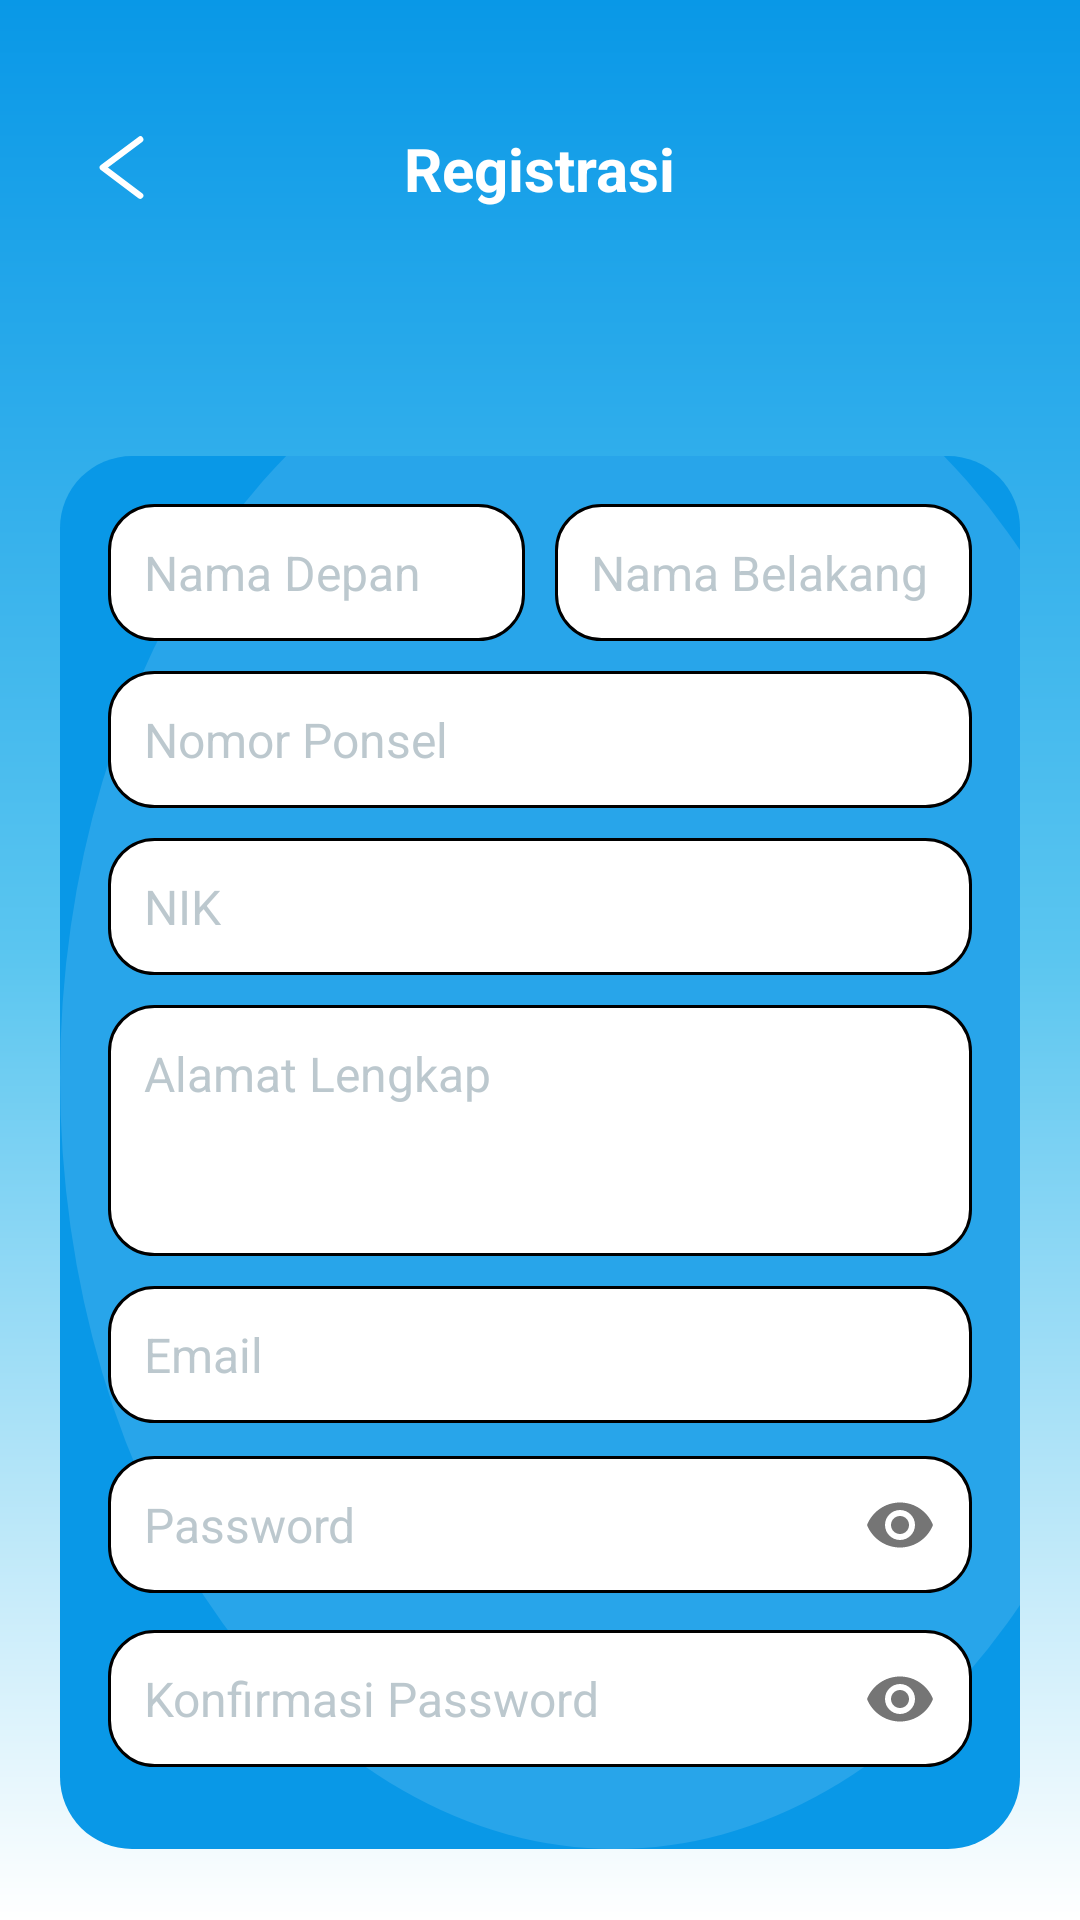

Icons on this 1080px x 1920px Android screen, each with its box as (x1, y1, x2, y2):
arrow left: (99, 136, 144, 199)
